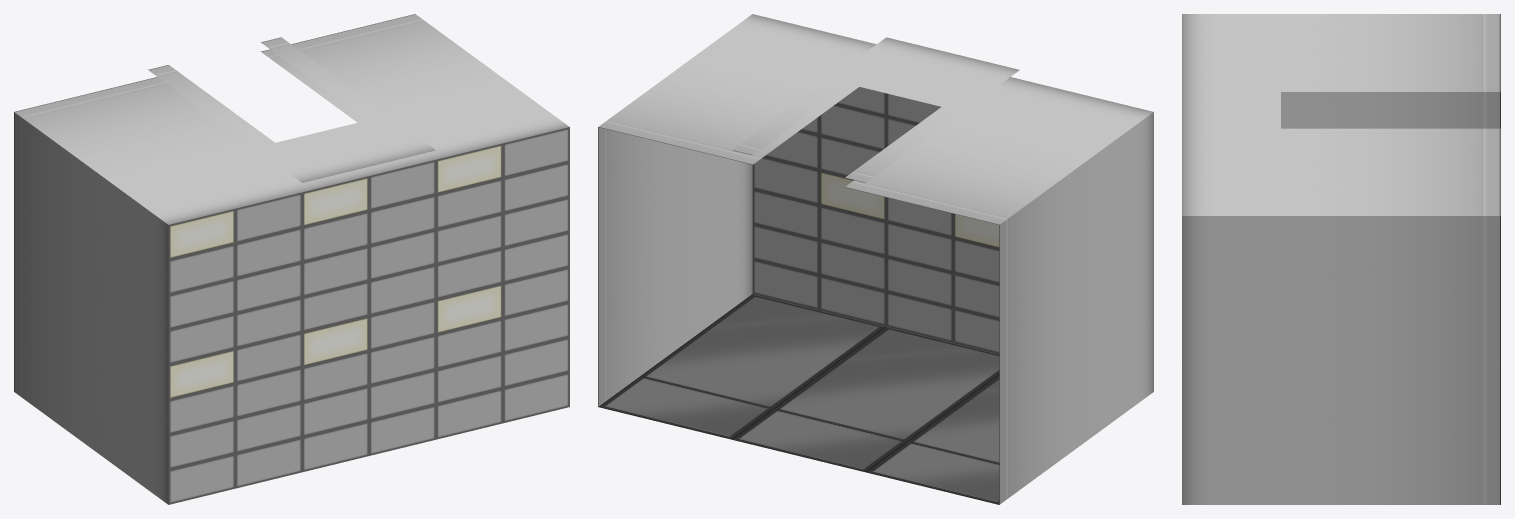
The model's file is office_small.obj.
3 renders of one model, left to right at view 1: azimuth 30°, elevation 25°; view 2: azimuth 150°, elevation 25°; view 3: azimuth 270°, elevation 25°, orthographic. The views are drawn at different scales.
Visible parts, largest first — view 1: office_small; view 2: office_small; view 3: office_small.
Boxes of the visible parts, <box> form: office_small: <box>14,14,569,504</box>; office_small: <box>598,14,1153,504</box>; office_small: <box>1182,14,1500,504</box>.
Bounding box in the file's own units: 450 × 310 × 300.
